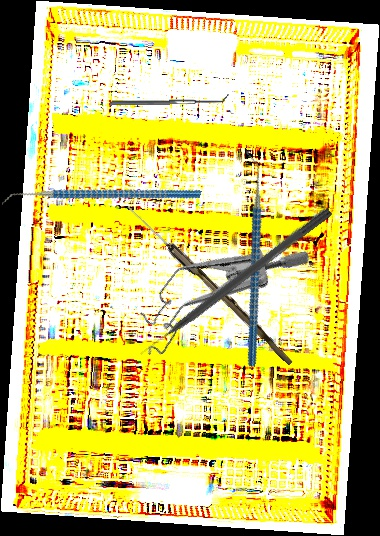Chopper: (174, 149, 327, 368), (1, 131, 202, 266)
Pusher: (135, 204, 334, 359)
Spatula Surgical: (109, 94, 230, 106)
Speculum: (119, 192, 315, 400)
Surgical Spoon: (123, 203, 297, 366)
